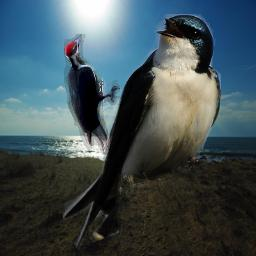Swallow: (63, 14, 221, 249)
Woodpecker: (64, 34, 120, 155)
